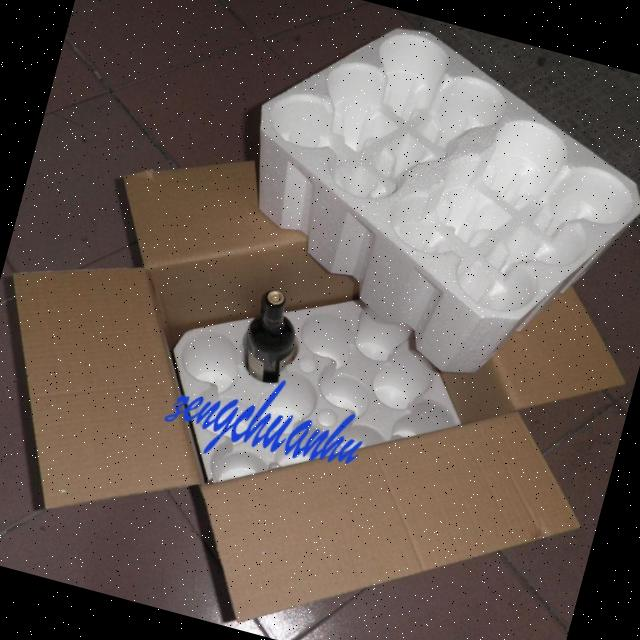styrofoam: (205, 0, 640, 410)
